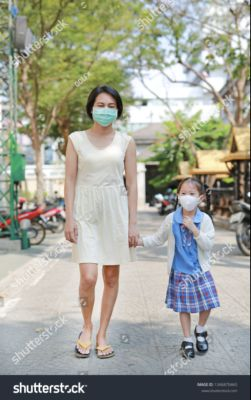with-mask: (85, 87, 124, 135), (175, 175, 208, 218)
